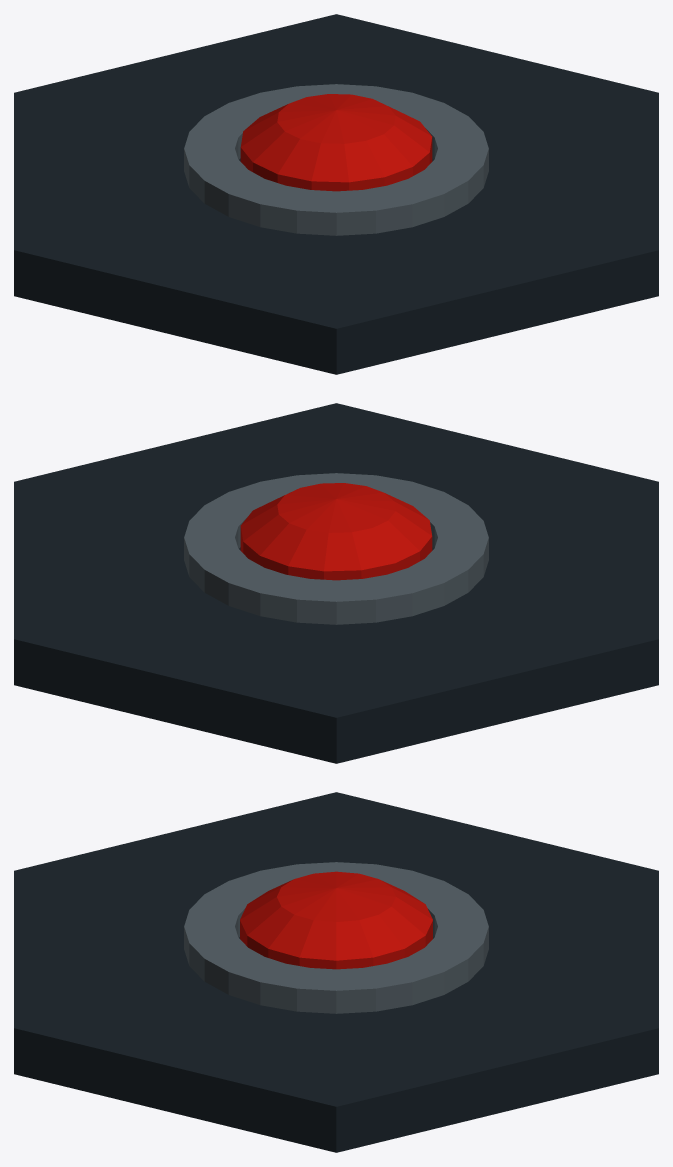
File: landing-beacon-hex.glb
The picture shows the model from 3 angles, top to bottom: view 1: azimuth 30°, elevation 25°; view 2: azimuth 150°, elevation 25°; view 3: azimuth 270°, elevation 25°; orthographic projection.
Parts seen in each view (by area): view 1: landing-beacon-hex; view 2: landing-beacon-hex; view 3: landing-beacon-hex.
Boxes of the visible parts, x1,y1,x2,y2 form: landing-beacon-hex: [14, 14, 658, 374]; landing-beacon-hex: [14, 403, 658, 763]; landing-beacon-hex: [14, 792, 658, 1152].
Bounding box in the file's own units: 44 × 7 × 38.11.
